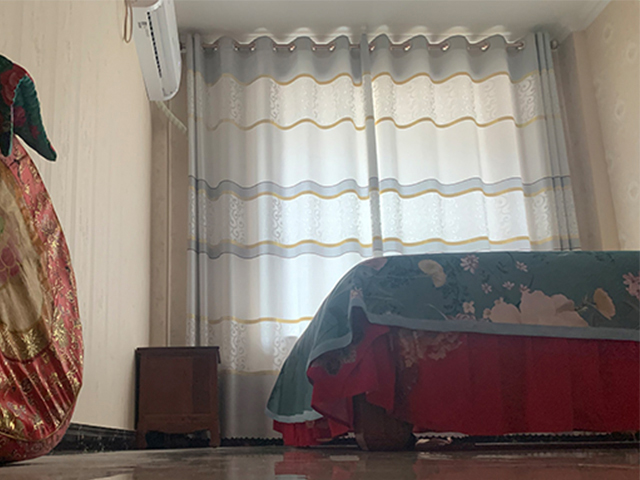bed: (267, 249, 640, 453)
cabinet: (134, 345, 222, 449)
curtain: (184, 32, 583, 441)
